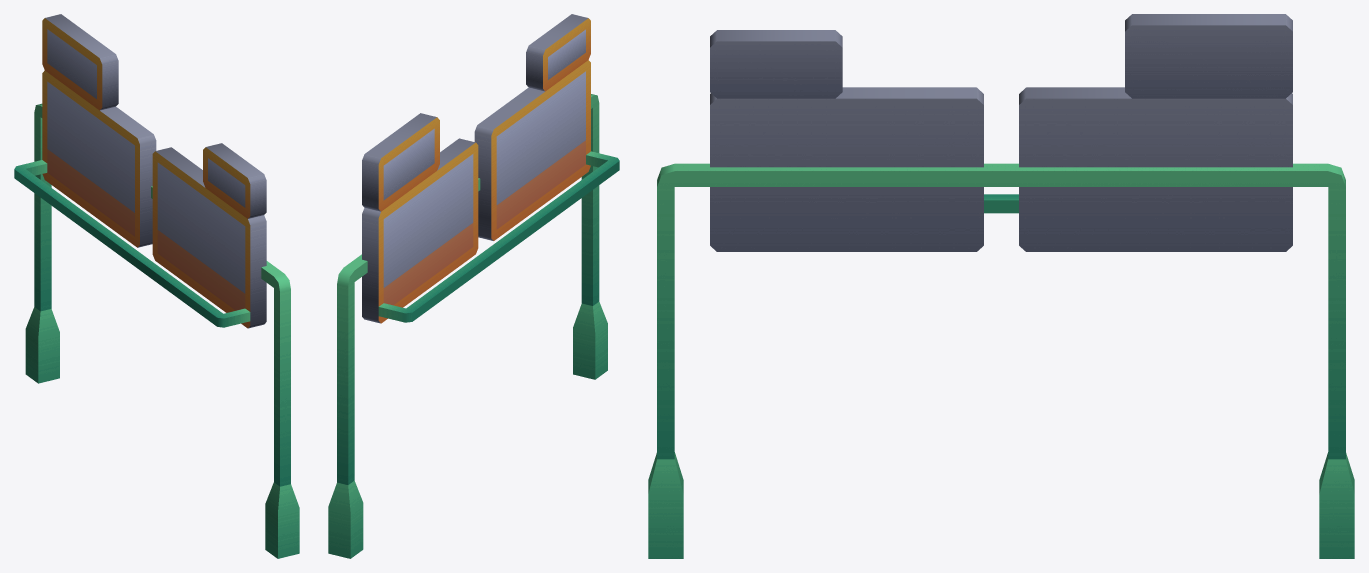
Rendered from sign_highway_detailed.glb.
The picture shows the model from 3 angles, left to right: view 1: azimuth 30°, elevation 25°; view 2: azimuth 150°, elevation 25°; view 3: azimuth 270°, elevation 25°; orthographic projection. The views are drawn at different scales.
Parts seen in each view (by area): view 1: sign-highway-detailed; view 2: sign-highway-detailed; view 3: sign-highway-detailed.
Boxes of the visible parts, x1,y1,x2,y2 form: sign-highway-detailed: [14, 14, 299, 558]; sign-highway-detailed: [328, 14, 619, 558]; sign-highway-detailed: [648, 14, 1354, 558].
Bounding box in the file's own units: 0.1324 × 0.8221 × 1.
1 material, 1 textured.
